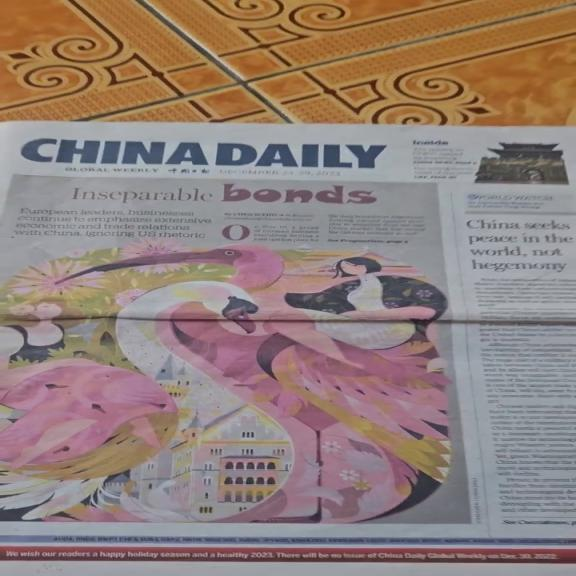Kertas: (5, 119, 569, 557)
